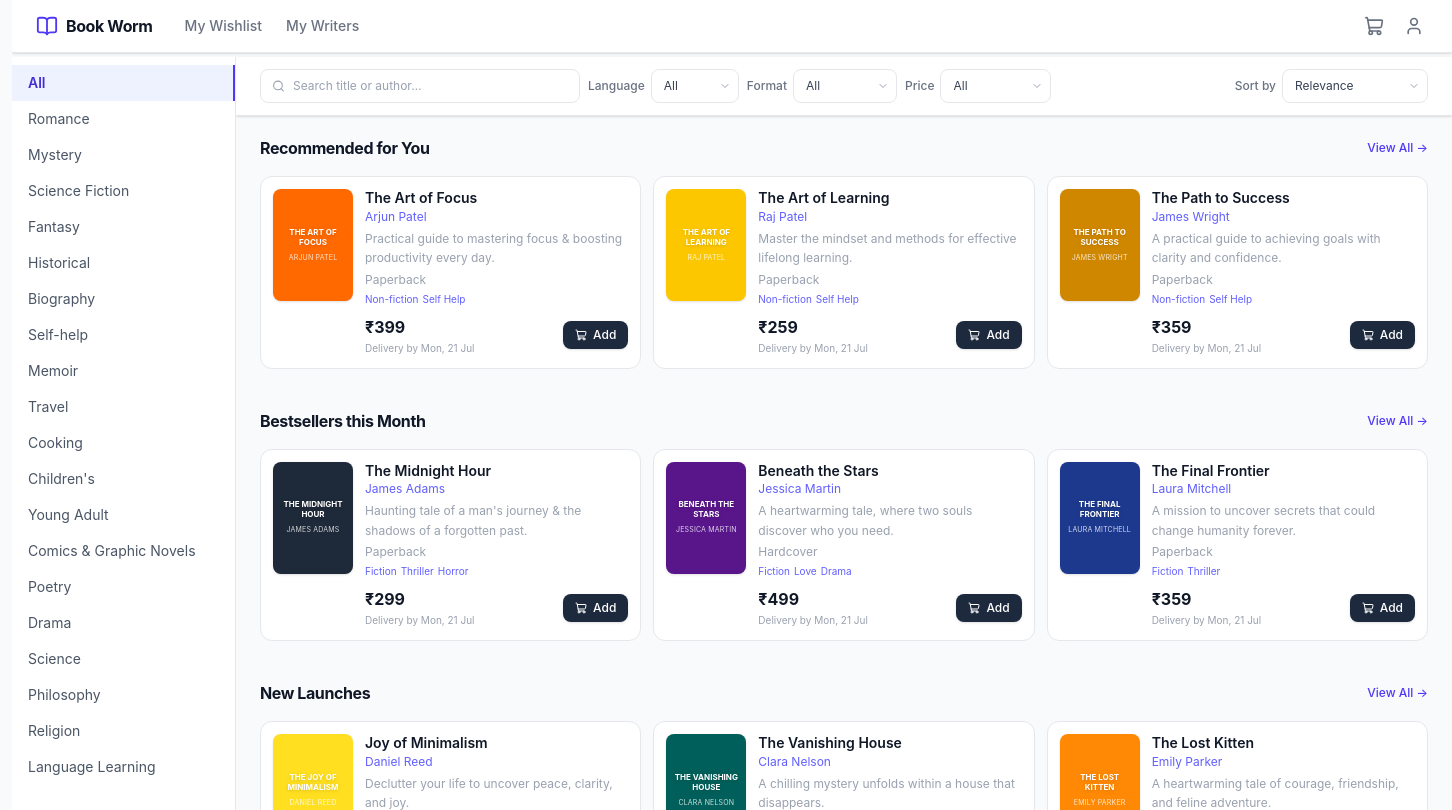
CataloguePage › filters books when typing into search input
In the field with placeholder "Search title or author…": [420, 86] box [260,69,580,103], type "Focus"
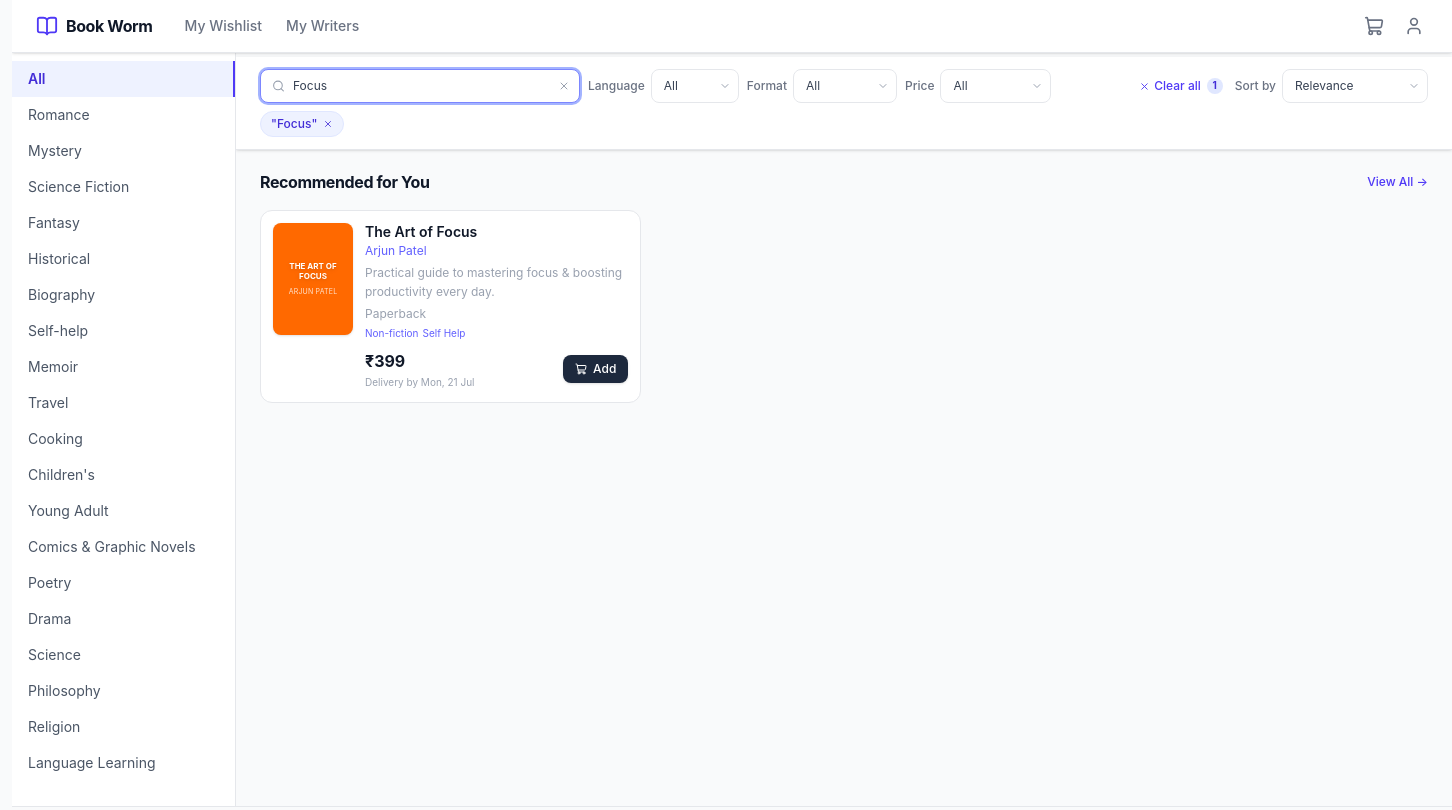
Expected: the heading "The Art of Focus" is shown, [365,223,477,240]
Now the text "THE VANISHING HOUSE" is gone
